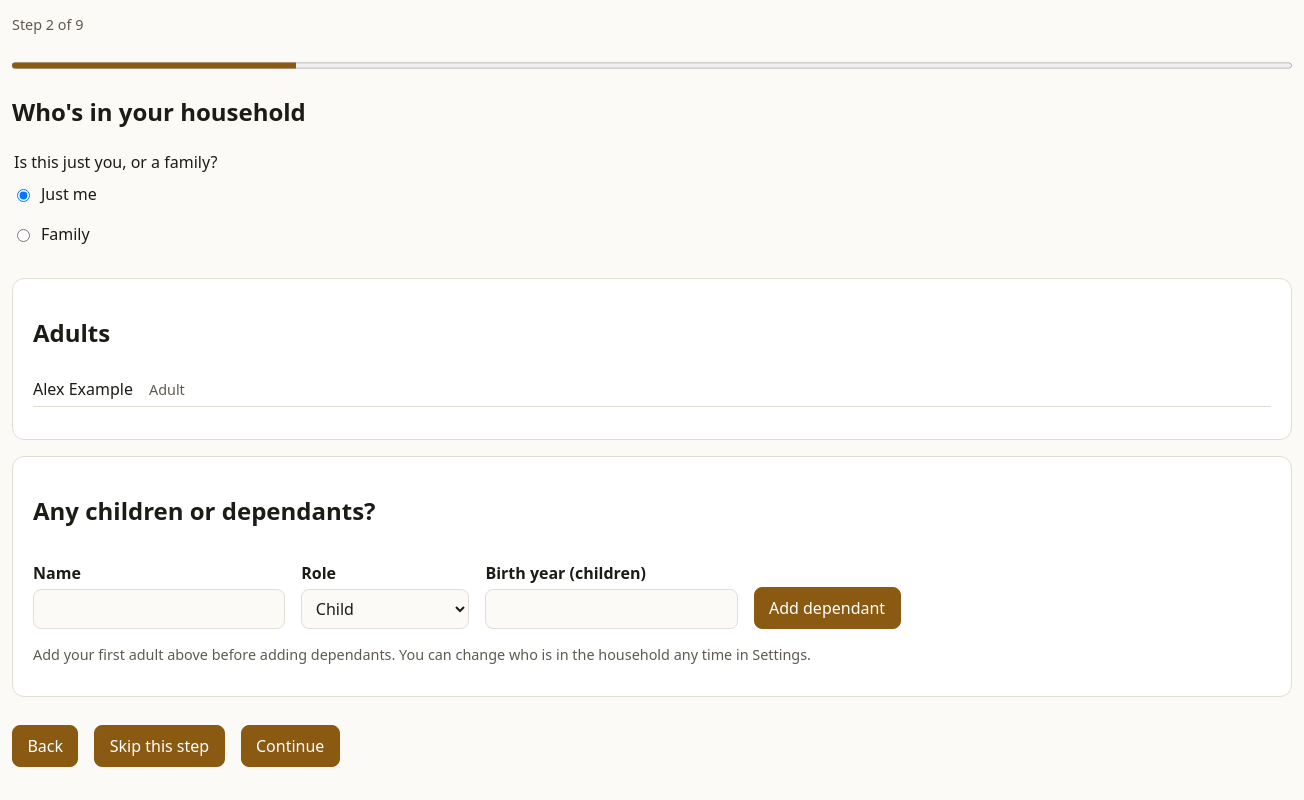
Test: rejects a child birth year that is not 4 digits
The width and height of the screenshot is (1304, 800).
Check: the text "Alex Example" is shown, box [33,377,133,401]
Step 1. Type "Kid A" into the field labelled "Name" → [159, 609], box [33,589,285,629]
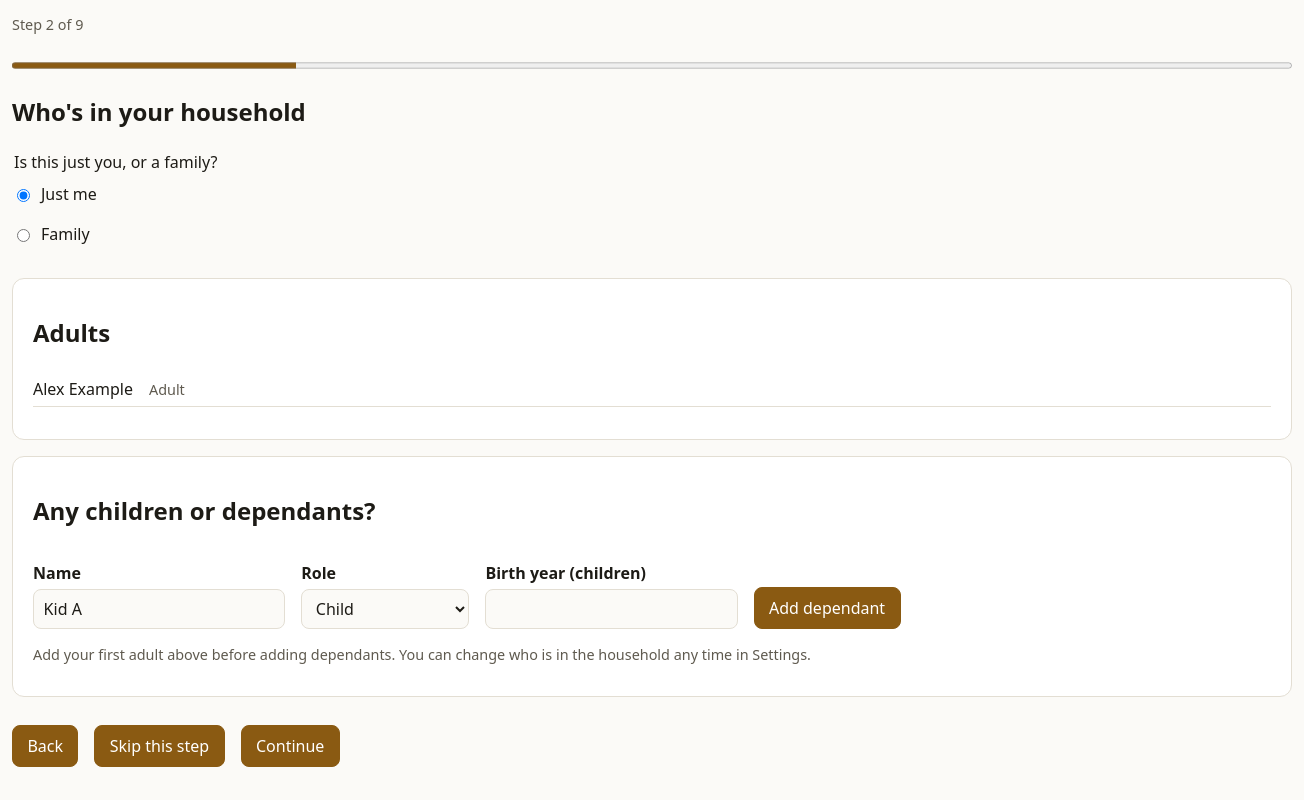
Step 2. Type "19" into the field labelled "Birth year (children)" → [612, 609], box [485,589,738,629]
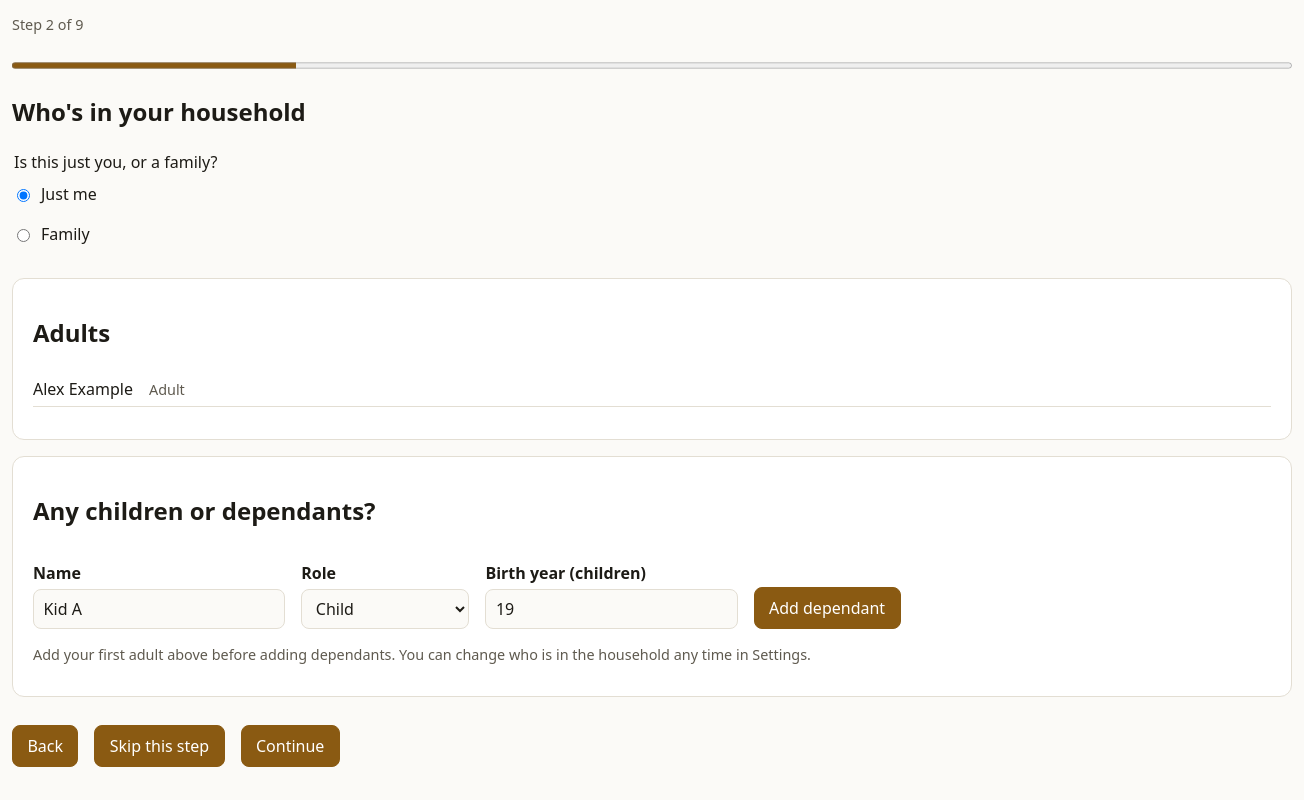
Step 3. Click the button "Add dependant" → [827, 608], box [754,587,901,629]
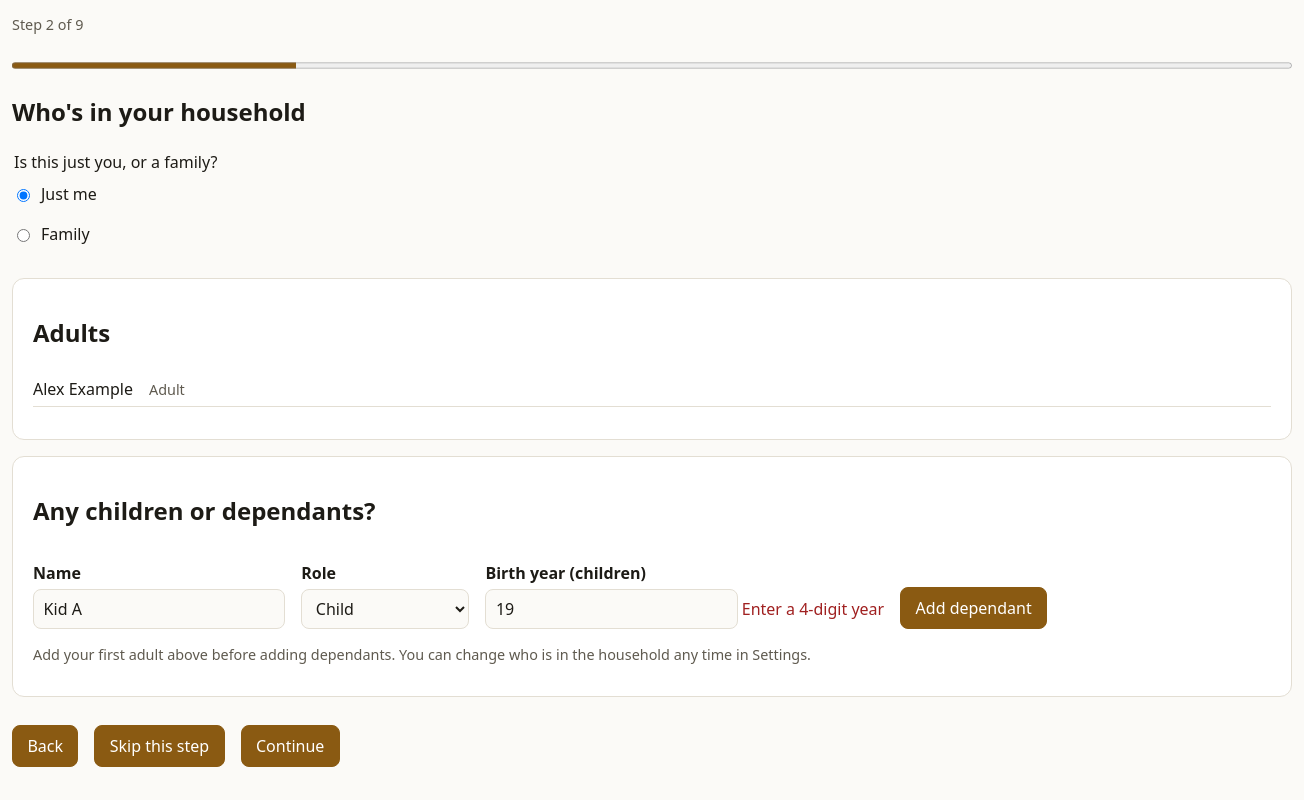
Check: the text "Enter a 4-digit year" is shown, box [742,598,884,620]
